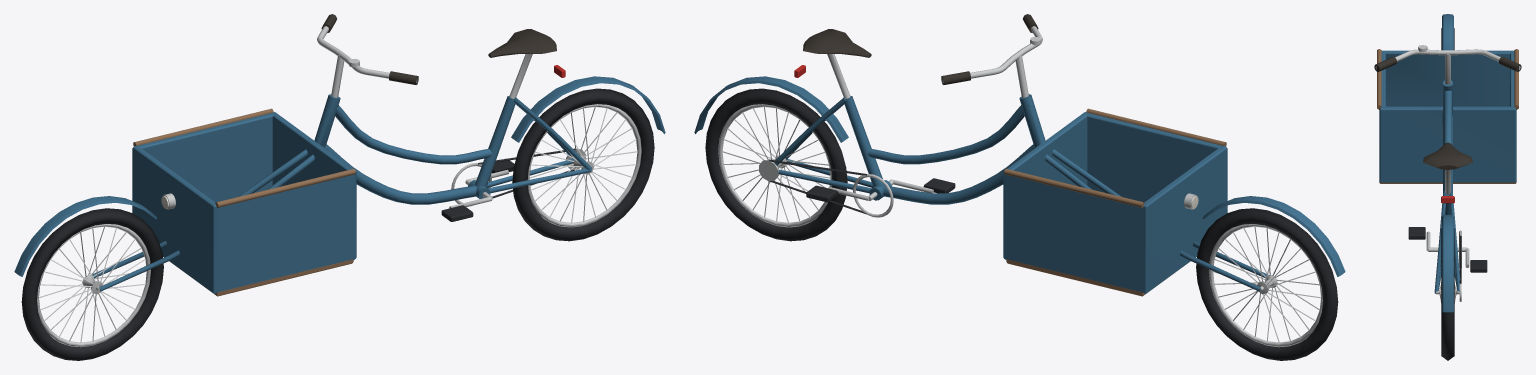
Rendered from cargoBike.glb.
3 renders of one model, left to right at view 1: azimuth 30°, elevation 25°; view 2: azimuth 150°, elevation 25°; view 3: azimuth 270°, elevation 25°, orthographic. The views are drawn at different scales.
Visible parts, largest first — view 1: frame, wheel_front, wheel_rear, cranks; view 2: frame, wheel_front, wheel_rear, cranks; view 3: frame, wheel_rear, cranks.
Boxes of the visible parts, bbox=[...] form: frame: bbox=[14, 14, 665, 296]; wheel_front: bbox=[21, 208, 163, 360]; wheel_rear: bbox=[512, 88, 654, 241]; cranks: bbox=[441, 158, 514, 221]; frame: bbox=[694, 14, 1345, 296]; wheel_front: bbox=[1196, 208, 1338, 360]; wheel_rear: bbox=[705, 88, 847, 241]; cranks: bbox=[806, 174, 955, 217]; frame: bbox=[1374, 14, 1521, 312]; wheel_rear: bbox=[1436, 228, 1459, 360]; cranks: bbox=[1408, 227, 1487, 272].
Size of the model in its own units: 2.73 by 1 by 0.6444.
